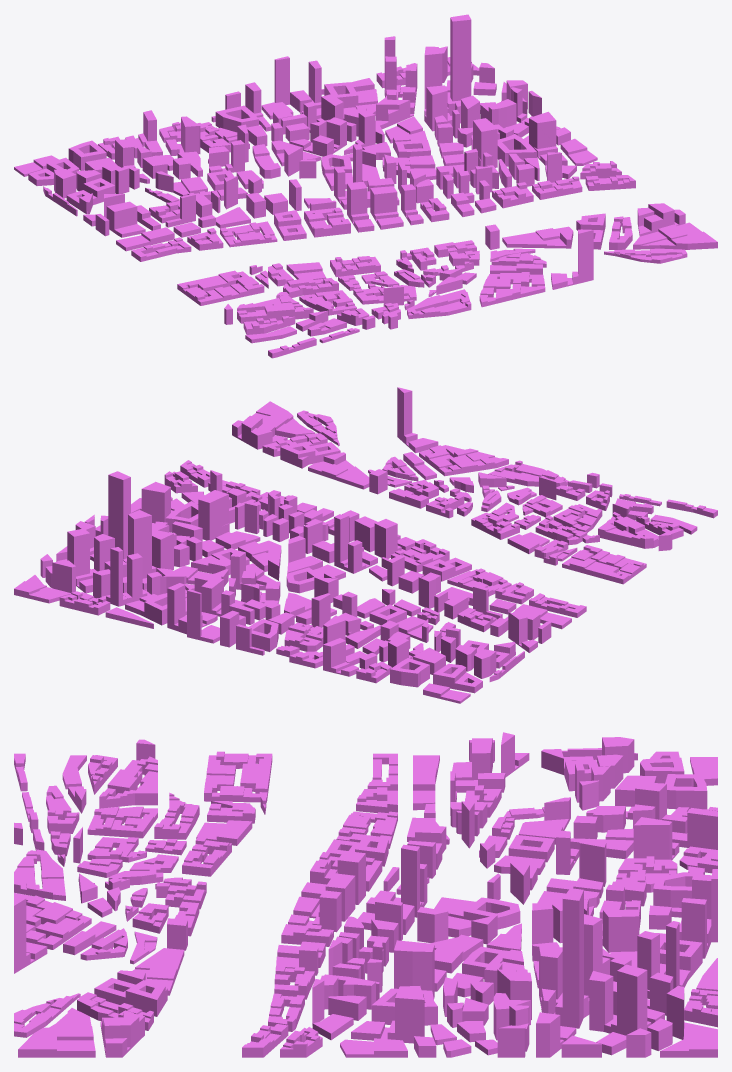
Rendered from buildings_00004.obj.
3 views of the same model, one above another, from view 1: azimuth 30°, elevation 25°; view 2: azimuth 150°, elevation 25°; view 3: azimuth 270°, elevation 25° (orthographic). The views are drawn at different scales.
Bounding box in the file's own units: 1512 × 301 × 1500.
